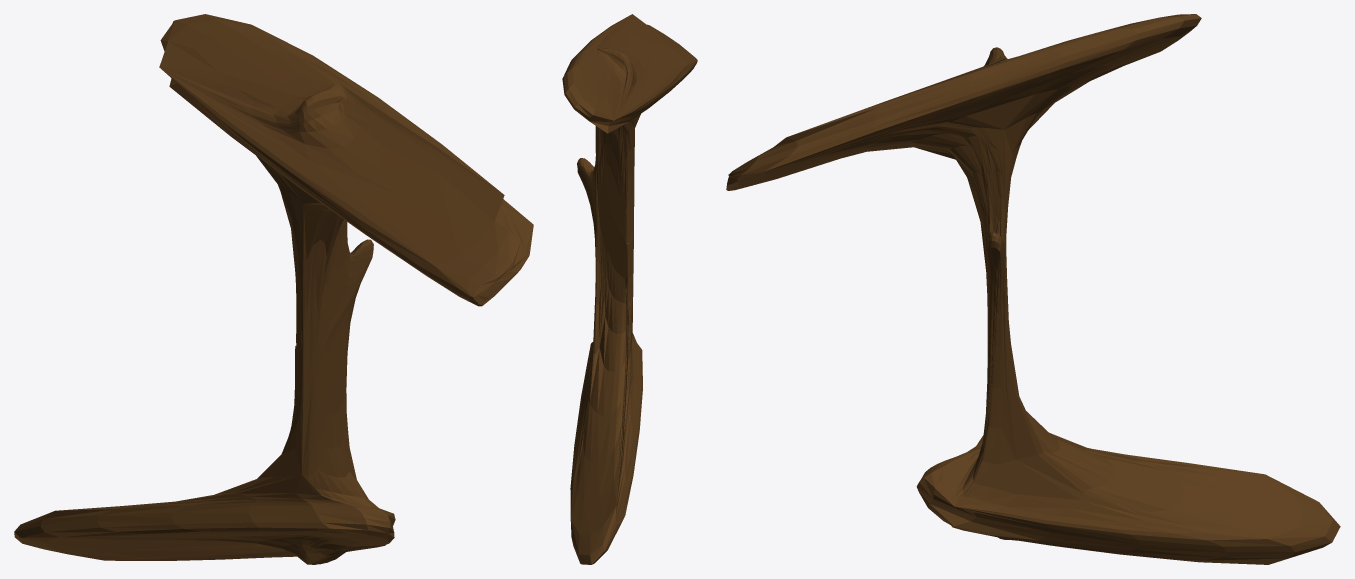
3 views of the same model, side by side, from view 1: azimuth 30°, elevation 25°; view 2: azimuth 150°, elevation 25°; view 3: azimuth 270°, elevation 25° (orthographic). The views are drawn at different scales.
Visible parts, largest first — view 1: 810_Cube.3265; view 2: 810_Cube.3265; view 3: 810_Cube.3265.
Boxes of the visible parts, x1,y1,x2,y2 form: 810_Cube.3265: [14, 14, 533, 564]; 810_Cube.3265: [562, 14, 697, 564]; 810_Cube.3265: [726, 14, 1340, 564].
Size of the model in its own units: 6.49 by 14.36 by 13.88.
